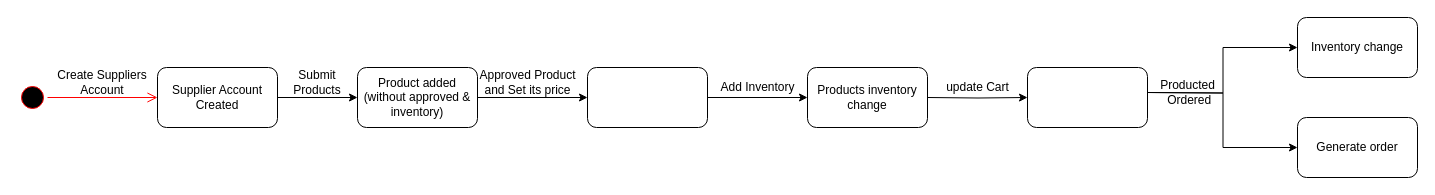
The diagram is 1435 pixels wide and 195 high, and some of its shapes have lost their labels. The centre of each missing label's shape, as x and y in pixels:
"add Product Items to Cart and Selecte items to buy" goes at pixel 1087 97.
"Product approved and set the price" goes at pixel 647 97.
